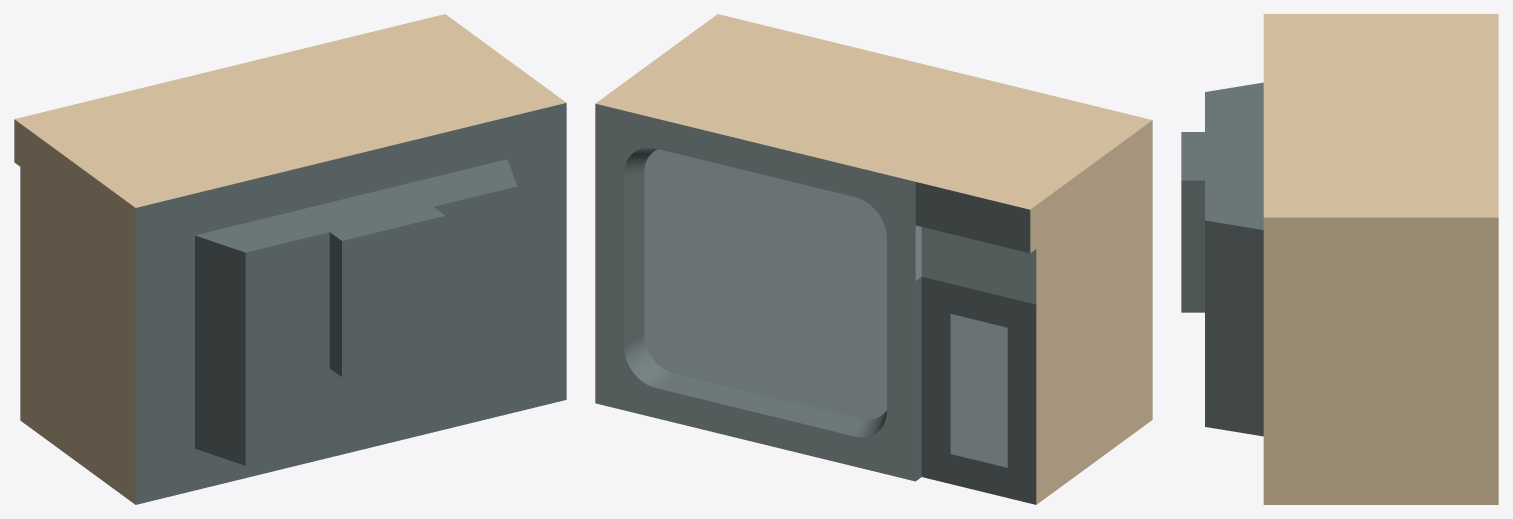
The model's file is television_vintage.glb.
3 views of the same model, side by side, from view 1: azimuth 30°, elevation 25°; view 2: azimuth 150°, elevation 25°; view 3: azimuth 270°, elevation 25° (orthographic). The views are drawn at different scales.
Parts seen in each view (by area): view 1: _MeshInstance3D_631; view 2: _MeshInstance3D_631; view 3: _MeshInstance3D_631.
Part boxes in pixels (bbox=[...]): _MeshInstance3D_631: bbox=[14, 14, 566, 504]; _MeshInstance3D_631: bbox=[595, 14, 1152, 504]; _MeshInstance3D_631: bbox=[1181, 14, 1498, 504].
Size of the model in its own units: 4.1 by 2.7 by 2.7.
